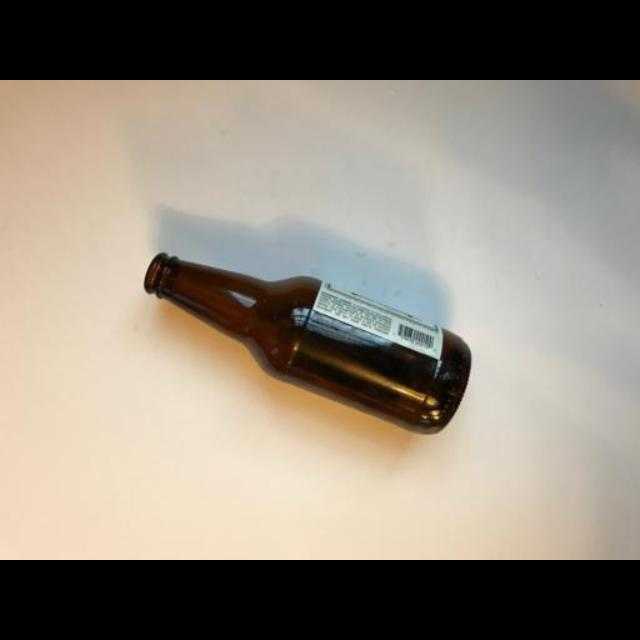garrafa de vidro: (142, 251, 472, 437)
